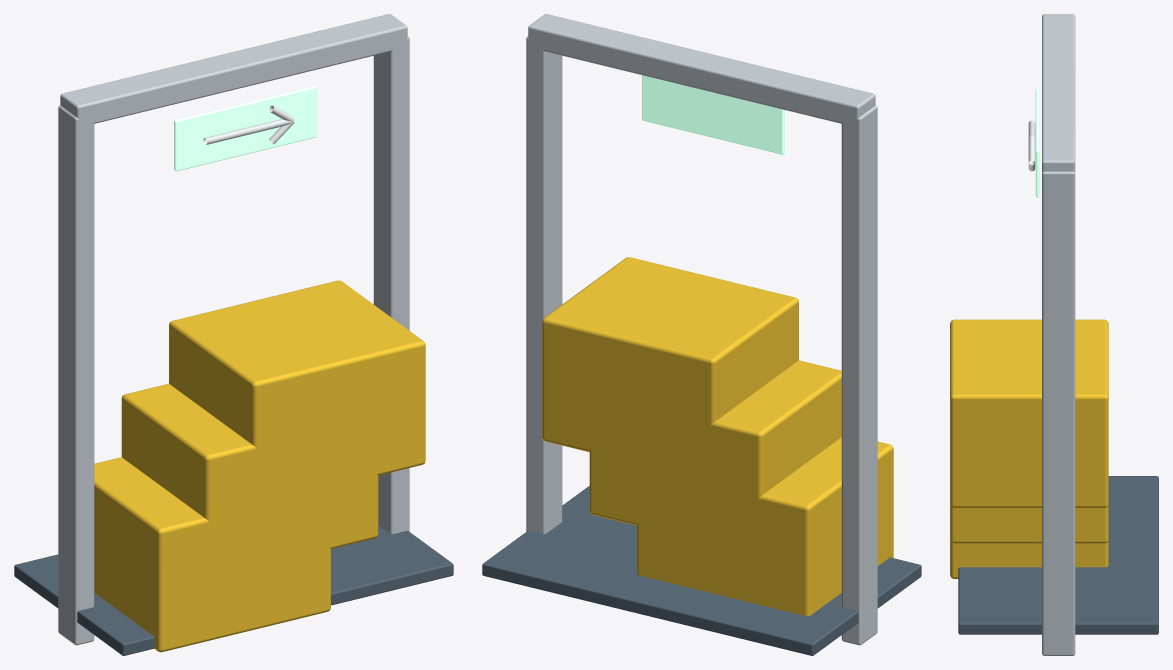
File: fire-blocked-exit.glb
3 views of the same model, side by side, from view 1: azimuth 30°, elevation 25°; view 2: azimuth 150°, elevation 25°; view 3: azimuth 270°, elevation 25° (orthographic). The views are drawn at different scales.
Parts seen in each view (by area): view 1: fire-blocked-exit; view 2: fire-blocked-exit; view 3: fire-blocked-exit.
Part boxes in pixels (x1,y1,x2,y2): fire-blocked-exit: (14, 14, 453, 655); fire-blocked-exit: (482, 14, 921, 655); fire-blocked-exit: (950, 14, 1158, 655).
Size of the model in its own units: 0.425 by 0.6535 by 0.25.
